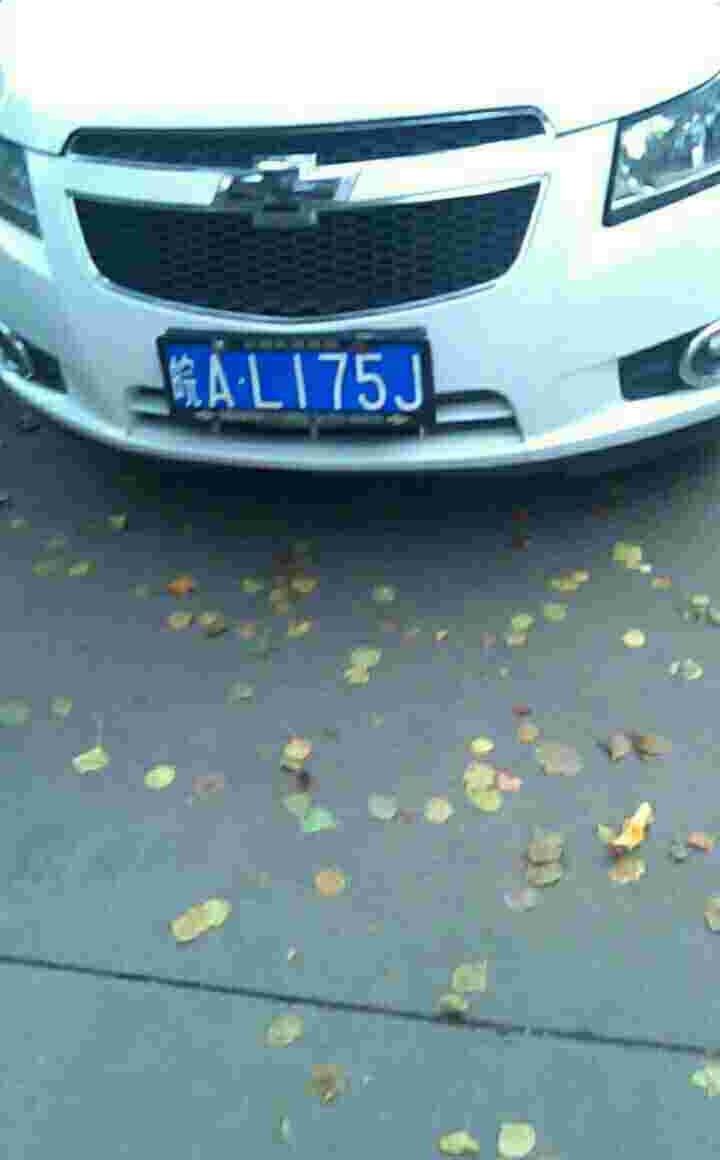plate: (156, 335, 442, 427)
